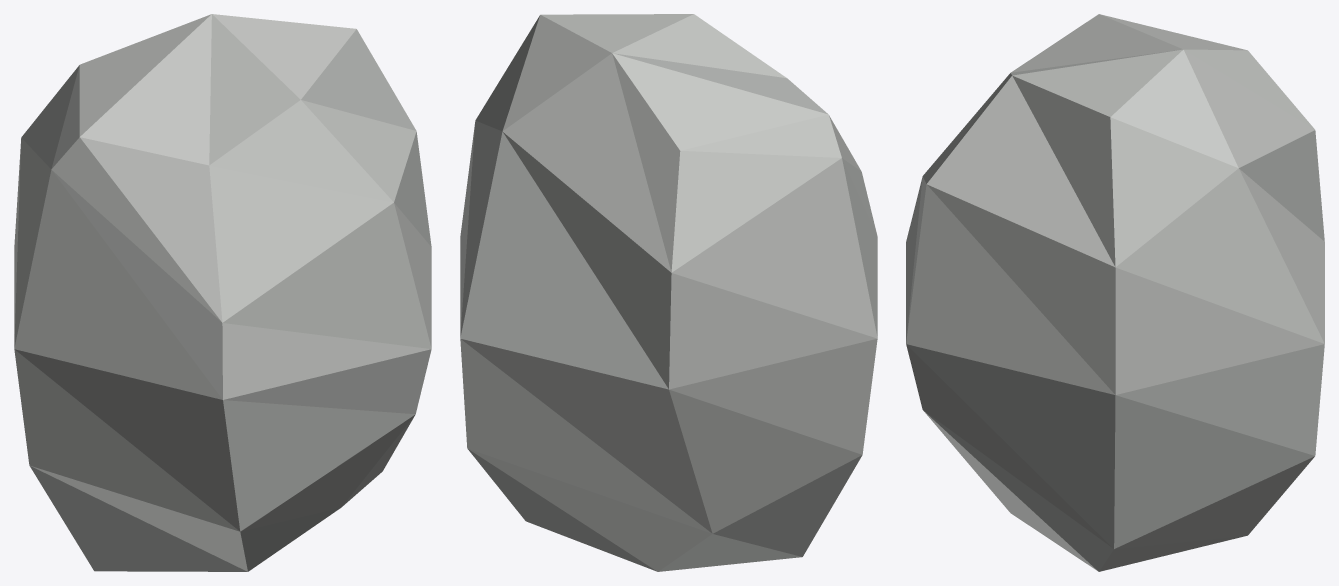
Rendered from Rock_Light_3.fbx.
3 views of the same model, side by side, from view 1: azimuth 30°, elevation 25°; view 2: azimuth 150°, elevation 25°; view 3: azimuth 270°, elevation 25° (orthographic).
Parts seen in each view (by area): view 1: Rock_Light_3; view 2: Rock_Light_3; view 3: Rock_Light_3.
Boxes of the visible parts, <box> form: Rock_Light_3: <box>14,14,431,571</box>; Rock_Light_3: <box>460,14,877,571</box>; Rock_Light_3: <box>906,14,1324,571</box>.
Bounding box in the file's own units: 2 × 2.32 × 1.73.
